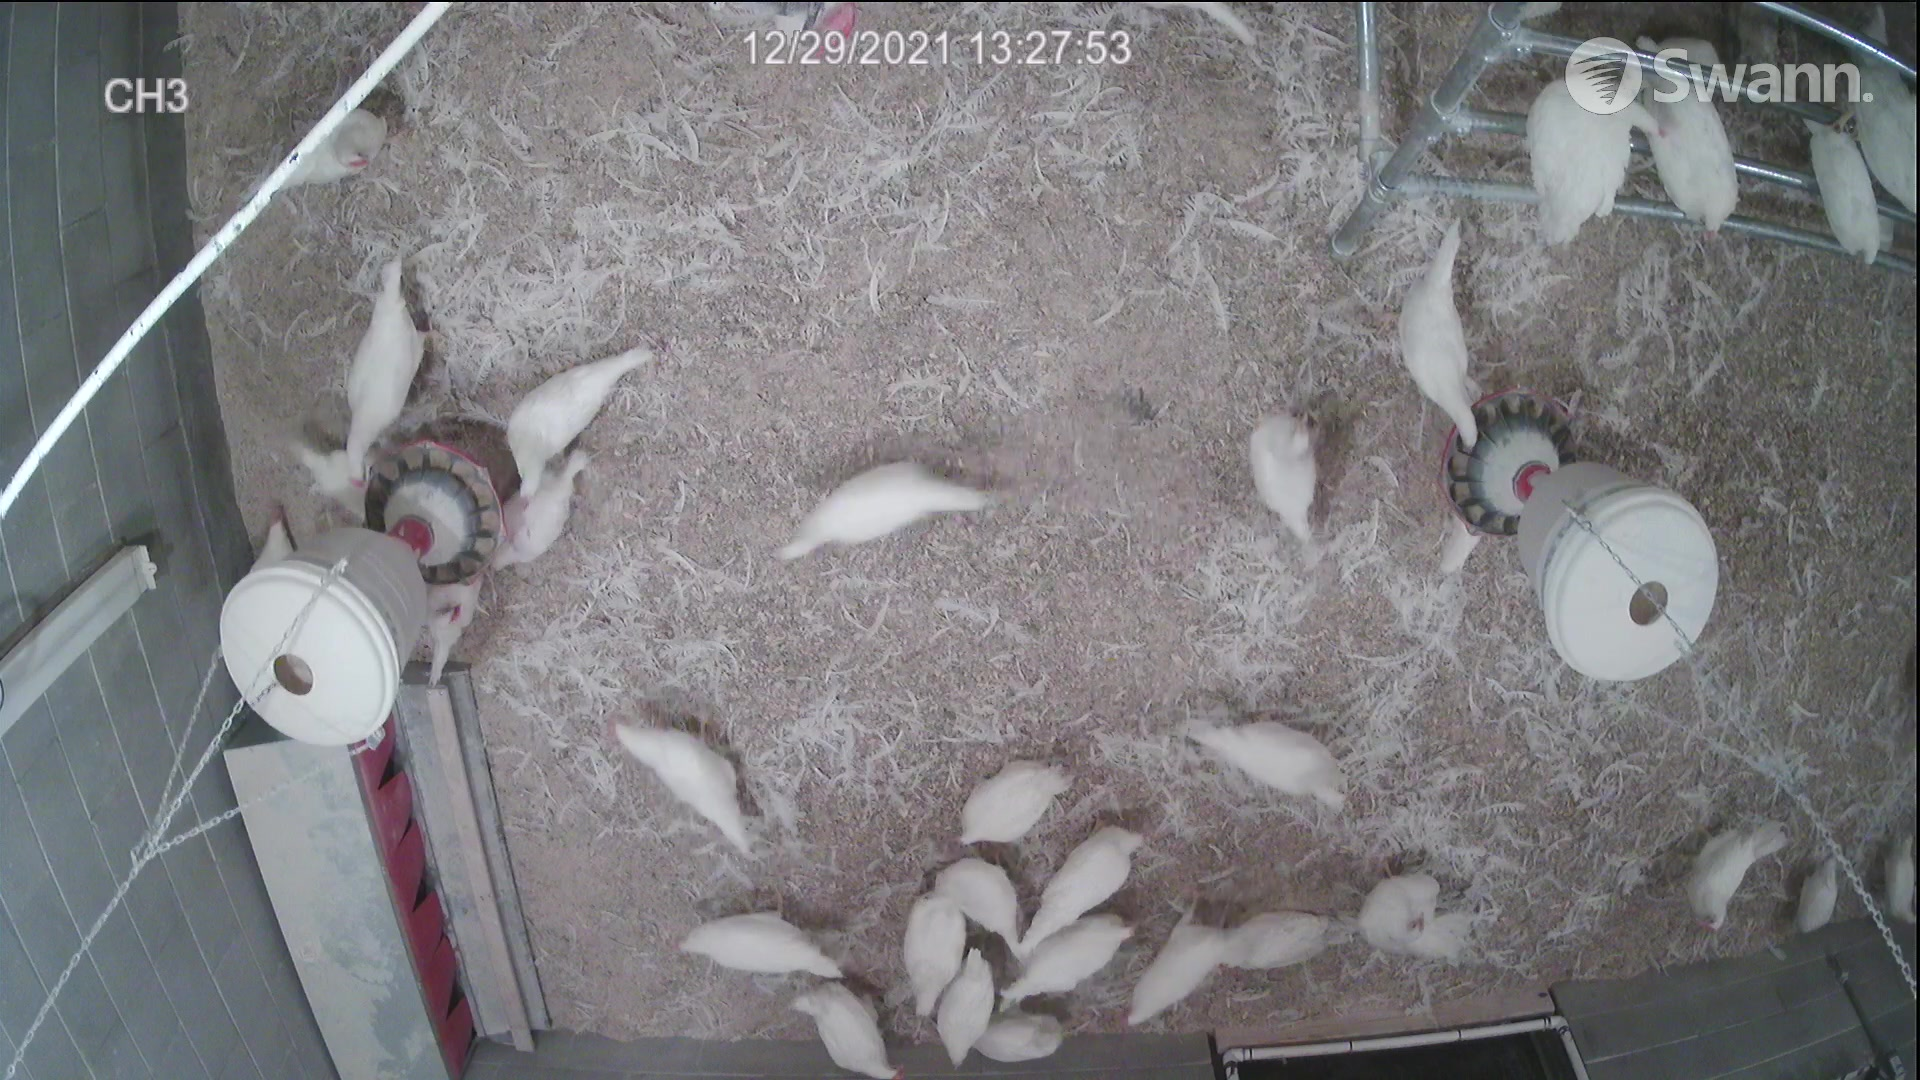Feeding: (316, 252, 410, 483), (1411, 219, 1491, 448)
Foraging: (782, 447, 1006, 564), (603, 712, 771, 862), (666, 906, 865, 996), (952, 753, 1088, 855)
Perching: (1509, 50, 1629, 240), (1789, 105, 1905, 277), (1636, 73, 1742, 243), (1841, 50, 1920, 204)
